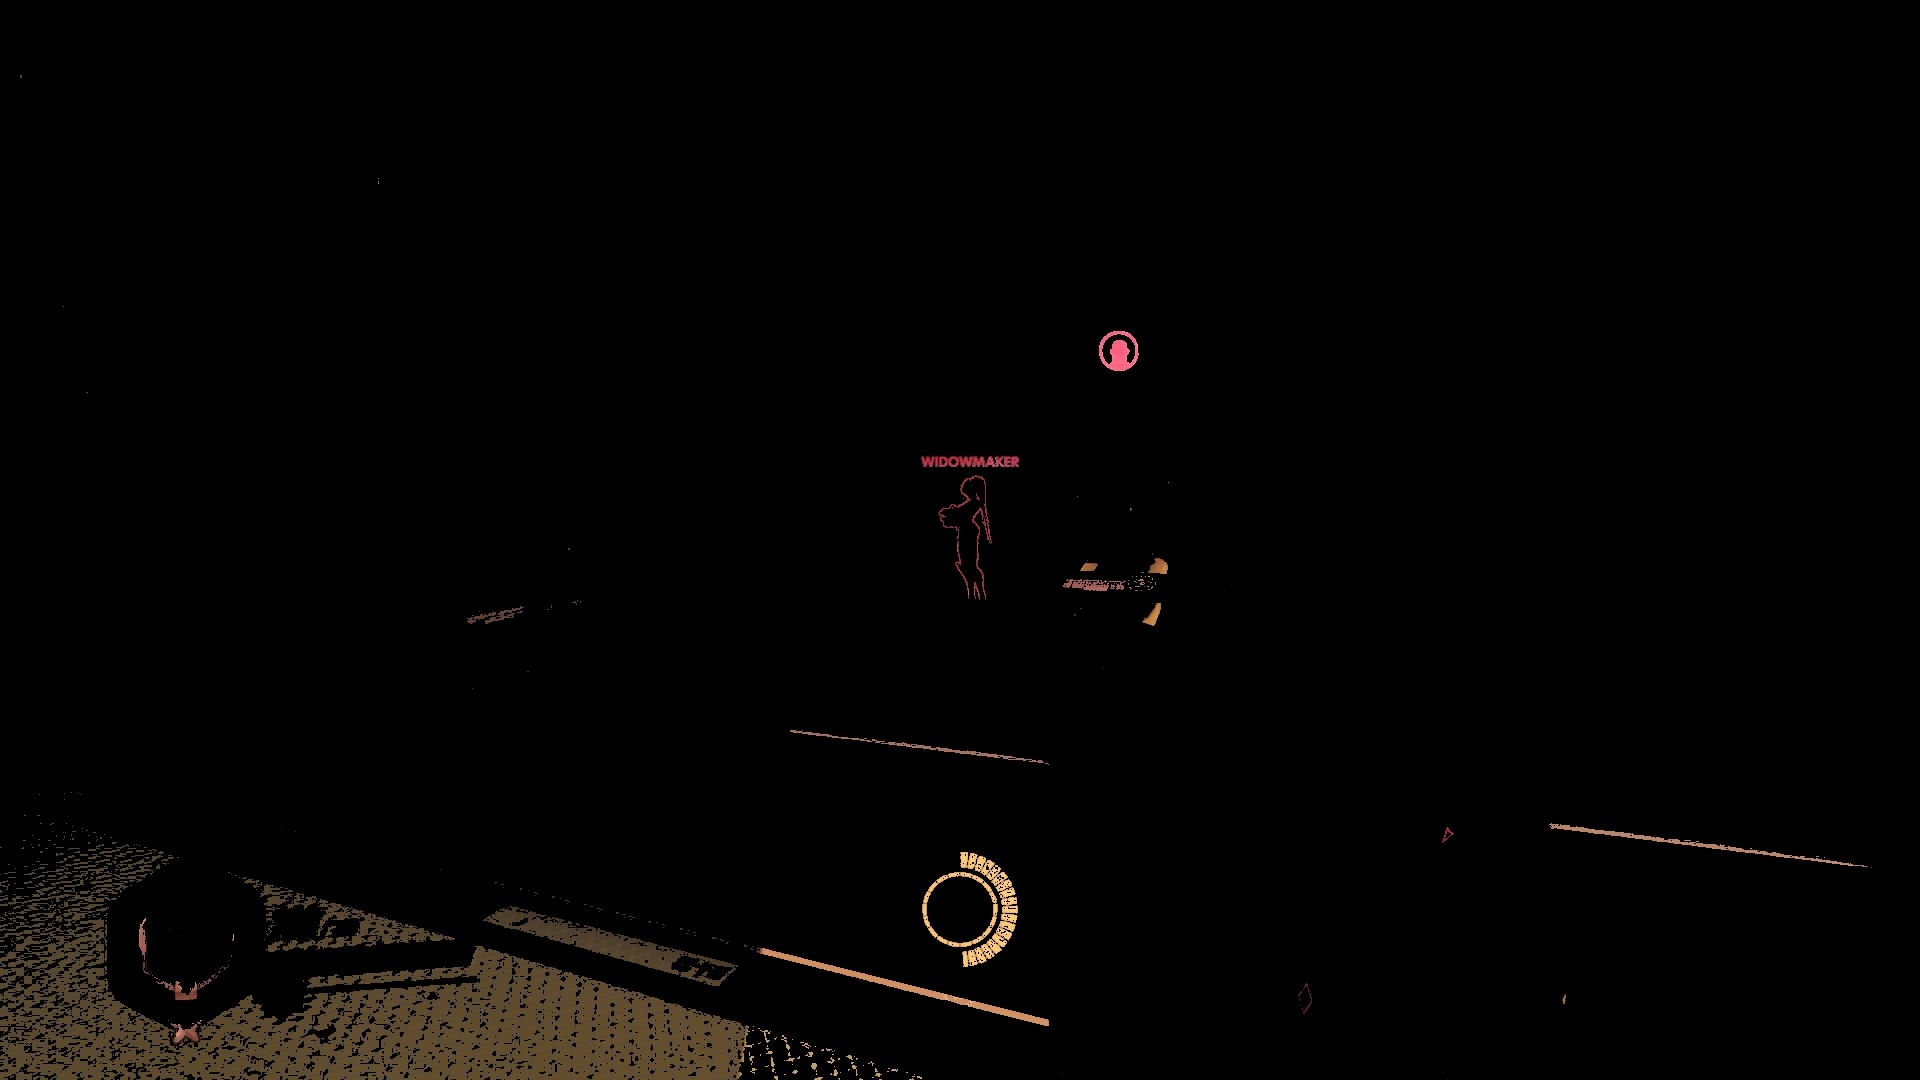widowmaker: (939, 473, 998, 615)
